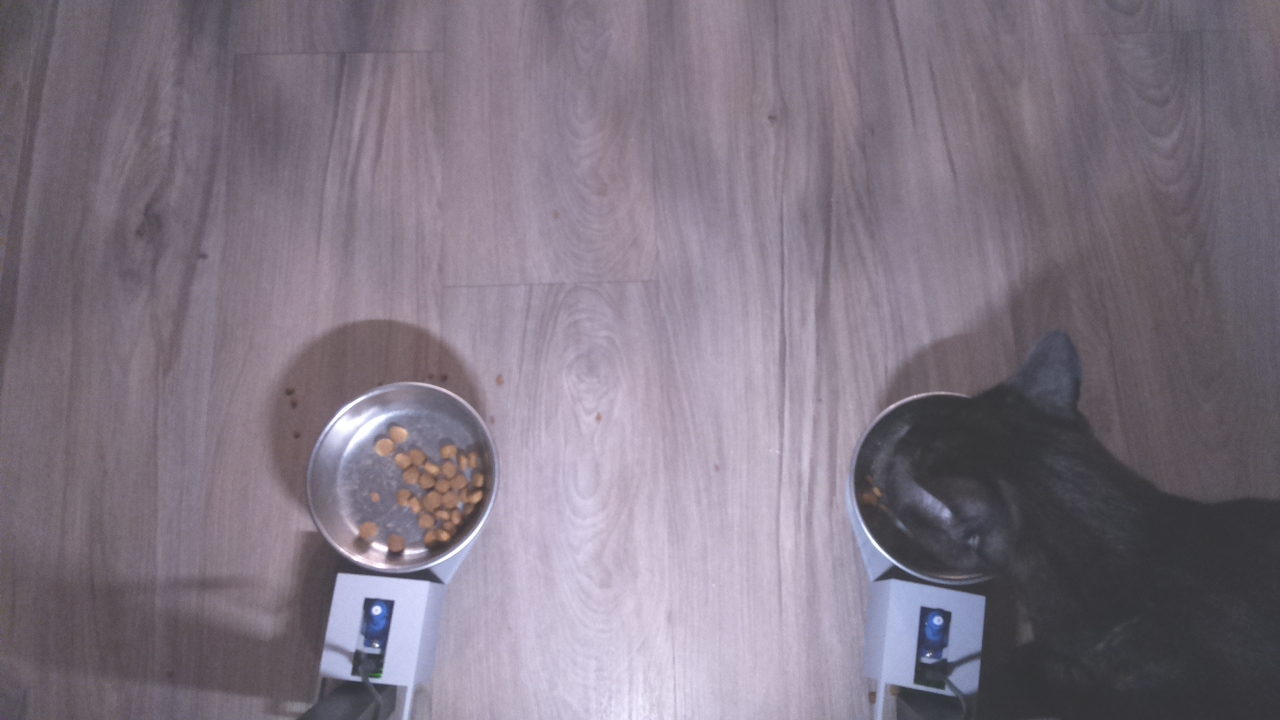open_bowl: (301, 375, 511, 583)
saki_eating: (845, 327, 1172, 606)
